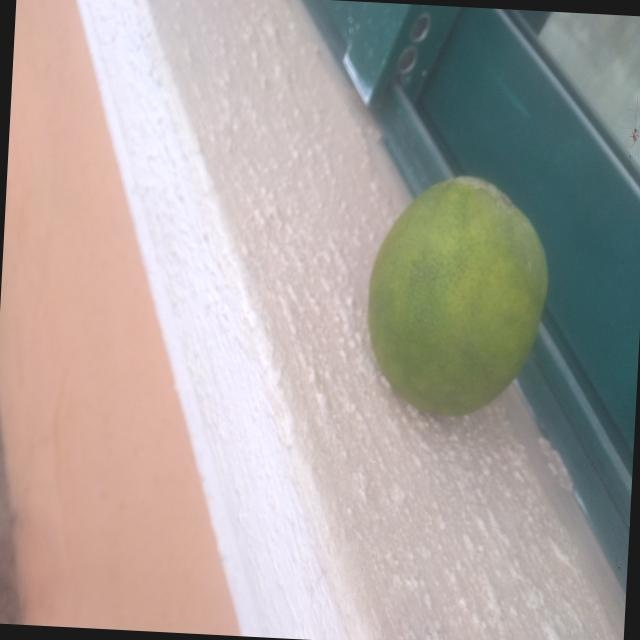agrume: (330, 130, 573, 443)
